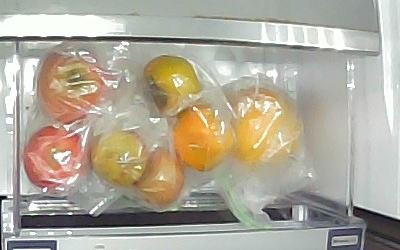apple_vinyl: (37, 46, 106, 123), (24, 126, 86, 189)
grapefruit_vinyl: (232, 85, 296, 166)
persimmon_vinyl: (172, 105, 231, 172), (143, 55, 203, 116)
prune_vinyl: (89, 130, 149, 188), (138, 148, 185, 202)
